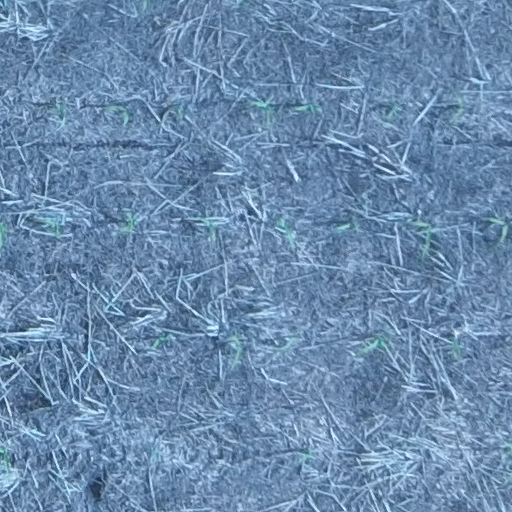planta: (412, 220, 433, 260), (356, 333, 390, 357), (246, 99, 274, 123), (486, 215, 509, 243), (447, 90, 464, 123), (39, 217, 62, 238), (275, 220, 296, 243), (120, 210, 138, 235), (229, 333, 243, 364), (107, 106, 130, 123), (199, 217, 217, 238), (152, 333, 171, 349), (49, 103, 67, 118), (295, 103, 318, 113), (337, 222, 356, 231)
